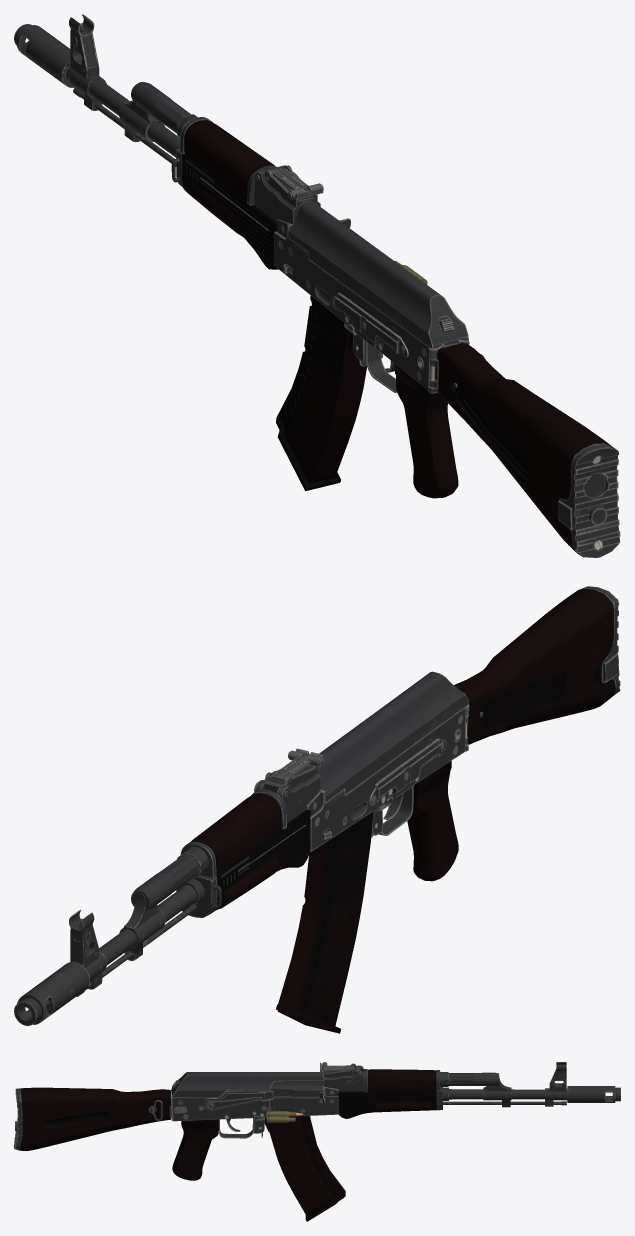
The picture shows the model from 3 angles, top to bottom: view 1: azimuth 30°, elevation 25°; view 2: azimuth 150°, elevation 25°; view 3: azimuth 270°, elevation 25°; orthographic projection. The views are drawn at different scales.
Parts seen in each view (by area): view 1: Stock_lowT, Magazine_lowT, ReceiverCover_lowT, Handle_lowT, Receiver_lowT, GasOutletPipe_lowT, Forend_lowT, Barrel2_lowT, IronsightFront_lowT, Barrel1_lowT, Forend1_lowT, SightBlock_lowT (+4 smaller); view 2: Stock_lowT, Magazine_lowT, ReceiverCover_lowT, Receiver_lowT, GasOutletPipe_lowT, Handle_lowT, Forend_lowT, Barrel2_lowT, Barrel1_lowT, Forend1_lowT, SightBlock_lowT, IronsightFront_lowT (+5 smaller); view 3: Stock_lowT, Magazine_lowT, Receiver_lowT, ReceiverCover_lowT, Forend_lowT, Handle_lowT, GasOutletPipe_lowT, Barrel2_lowT, Forend1_lowT, Shutter_lowT, Barrel1_lowT, ModeSwitch_lowT (+5 smaller).
Boxes of the visible parts, x1,y1,x2,y2 form: Stock_lowT: (437,343,620,557); Magazine_lowT: (276,295,366,491); ReceiverCover_lowT: (288,200,468,349); Handle_lowT: (395,364,458,498); Receiver_lowT: (274,219,457,390); GasOutletPipe_lowT: (177,114,277,205); Forend_lowT: (176,149,278,269); Barrel2_lowT: (119,82,190,142); IronsightFront_lowT: (66,14,106,110); Barrel1_lowT: (14,24,75,87); Forend1_lowT: (182,159,273,264); SightBlock_lowT: (254,165,320,224); Stock_lowT: (454,586,620,744); Magazine_lowT: (276,812,373,1033); ReceiverCover_lowT: (308,671,468,803); Receiver_lowT: (306,707,465,851); GasOutletPipe_lowT: (177,789,286,878); Handle_lowT: (407,761,458,881); Forend_lowT: (176,810,310,917); Barrel2_lowT: (119,854,198,960); Barrel1_lowT: (14,961,89,1025); Forend1_lowT: (218,817,310,903); SightBlock_lowT: (255,765,320,823); IronsightFront_lowT: (69,909,106,989); Stock_lowT: (14,1087,171,1151); Magazine_lowT: (264,1116,345,1221); Receiver_lowT: (172,1087,338,1121); ReceiverCover_lowT: (172,1072,323,1098); Forend_lowT: (338,1087,448,1118); Handle_lowT: (172,1119,218,1180); GasOutletPipe_lowT: (364,1069,448,1092); Barrel2_lowT: (448,1072,511,1107); Forend1_lowT: (340,1094,435,1114); Shutter_lowT: (270,1081,325,1103); Barrel1_lowT: (567,1086,620,1102); ModeSwitch_lowT: (204,1091,273,1110).
Bounding box in the file's own units: 8.65 × 26.38 × 94.28.
1 material, 1 textured.
